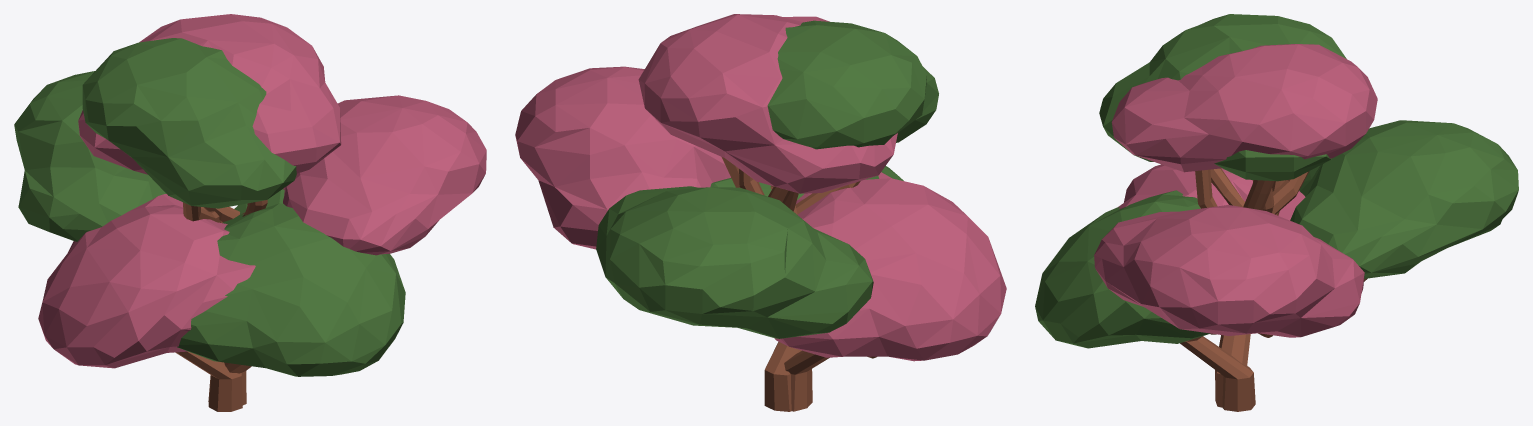
The model's file is Sakura_tree.fbx.
The picture shows the model from 3 angles, left to right: view 1: azimuth 30°, elevation 25°; view 2: azimuth 150°, elevation 25°; view 3: azimuth 270°, elevation 25°; orthographic projection. The views are drawn at different scales.
Visible parts, largest first — view 1: Sakura_tree, Sakura_tree2; view 2: Sakura_tree2, Sakura_tree; view 3: Sakura_tree2, Sakura_tree.
Part boxes in pixels (x1,y1,x2,y2): Sakura_tree: (14, 38, 405, 405); Sakura_tree2: (38, 14, 486, 411); Sakura_tree2: (515, 14, 1006, 411); Sakura_tree: (596, 20, 938, 411); Sakura_tree2: (1094, 44, 1377, 407); Sakura_tree: (1035, 14, 1518, 411).
Size of the model in its own units: 629 by 507 by 626.
1 material, 1 textured.
